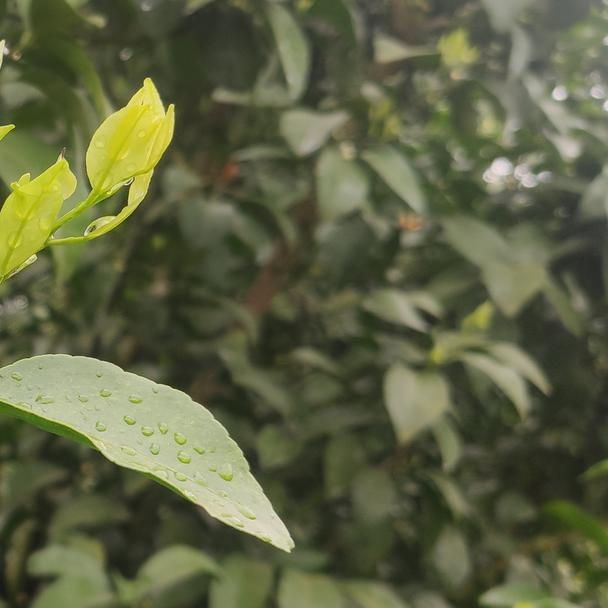shoot: (3, 92, 182, 278)
